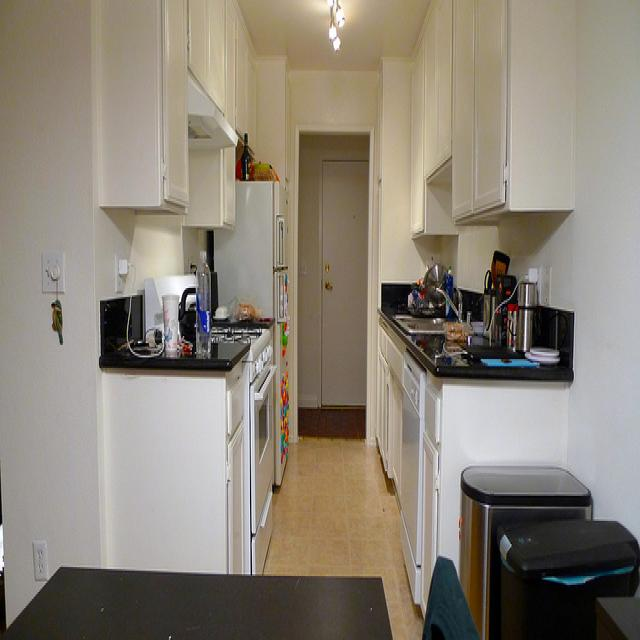chair: (421, 553, 478, 639)
dining table: (7, 560, 393, 630)
